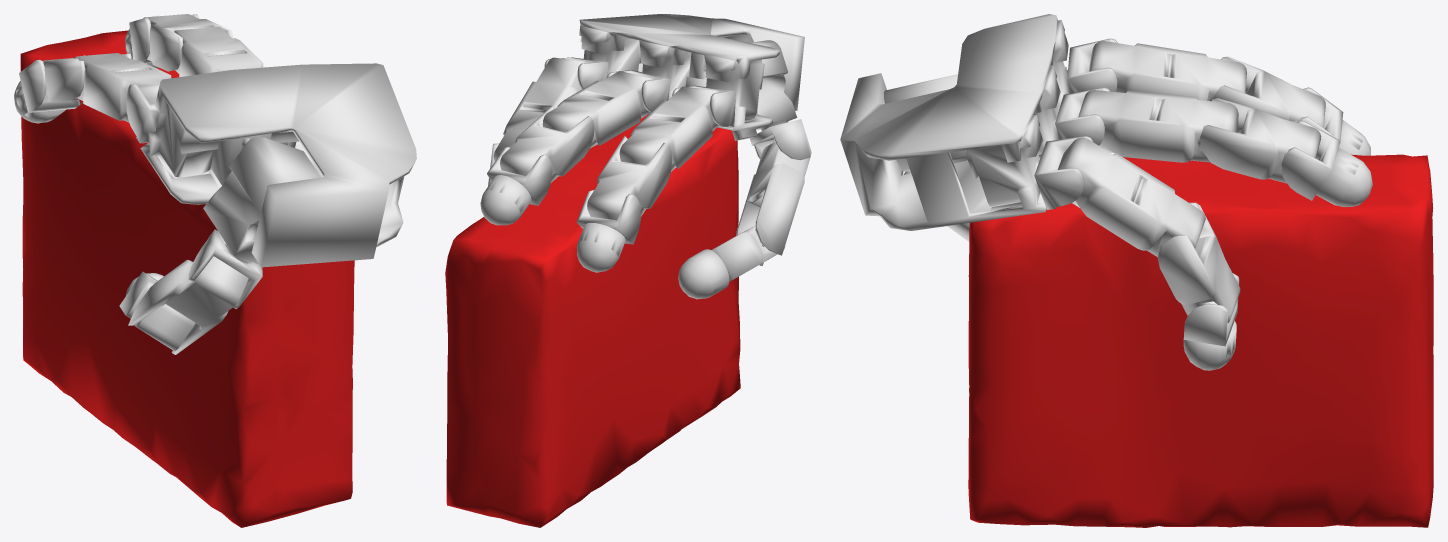
Rendered from allegro_box.glb.
3 renders of one model, left to right at view 1: azimuth 30°, elevation 25°; view 2: azimuth 150°, elevation 25°; view 3: azimuth 270°, elevation 25°, orthographic. The views are drawn at different scales.
Parts seen in each view (by area): view 1: obj, body_0, body_16, body_18, body_2, body_7, body_19, body_8, body_3, body_17, body_4, body_1 (+2 smaller); view 2: obj, body_0, body_2, body_18, body_7, body_3, body_8, body_12, body_16, body_20, body_10, body_5 (+7 smaller); view 3: obj, body_0, body_12, body_7, body_2, body_8, body_13, body_3, body_11, body_9, body_10, body_14 (+6 smaller).
Boxes of the visible parts, <box> form: obj: <box>20,30,354,527</box>; body_0: <box>140,63,416,267</box>; body_16: <box>203,136,320,264</box>; body_18: <box>128,256,248,354</box>; body_2: <box>74,53,171,122</box>; body_7: <box>174,27,263,76</box>; body_19: <box>119,271,195,350</box>; body_8: <box>143,14,232,71</box>; body_3: <box>42,53,131,102</box>; body_17: <box>188,229,262,309</box>; body_4: <box>19,55,84,112</box>; body_1: <box>126,84,159,143</box>; obj: <box>445,114,740,527</box>; body_0: <box>579,14,804,130</box>; body_2: <box>619,86,719,171</box>; body_18: <box>736,142,811,266</box>; body_7: <box>542,71,653,148</box>; body_3: <box>587,136,672,220</box>; body_8: <box>500,105,594,182</box>; body_12: <box>493,57,586,161</box>; body_16: <box>732,40,797,140</box>; body_20: <box>678,249,729,299</box>; body_10: <box>480,175,531,225</box>; body_5: <box>576,223,625,272</box>; obj: <box>968,154,1433,527</box>; body_0: <box>840,14,1071,230</box>; body_12: <box>1057,137,1205,256</box>; body_7: <box>1078,90,1238,162</box>; body_2: <box>1089,41,1246,101</box>; body_8: <box>1199,98,1321,183</box>; body_13: <box>1157,202,1240,322</box>; body_3: <box>1214,56,1325,127</box>; body_11: <box>1034,136,1093,209</box>; body_9: <box>1281,120,1340,200</box>; body_10: <box>1316,148,1372,207</box>; body_14: <box>1183,273,1239,346</box>.
Bounding box in the file's own units: 0.00142 × 0.00222 × 0.00272.
